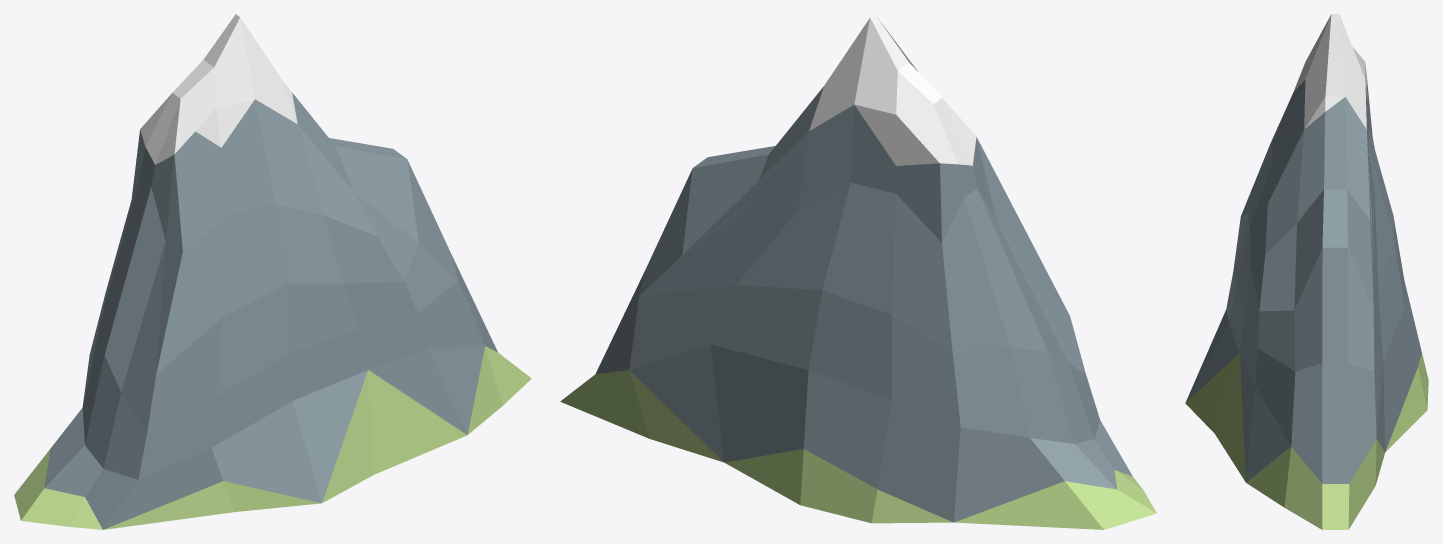
Rendered from Mountain_01.gltf.
3 renders of one model, left to right at view 1: azimuth 30°, elevation 25°; view 2: azimuth 150°, elevation 25°; view 3: azimuth 270°, elevation 25°, orthographic. The views are drawn at different scales.
Parts seen in each view (by area): view 1: Mountain_Cube; view 2: Mountain_Cube; view 3: Mountain_Cube.
Part boxes in pixels (x1,y1,x2,y2): Mountain_Cube: (14,14,531,529); Mountain_Cube: (560,14,1156,529); Mountain_Cube: (1185,14,1428,529).
Size of the model in its own units: 10.86 by 8.39 by 4.76.
